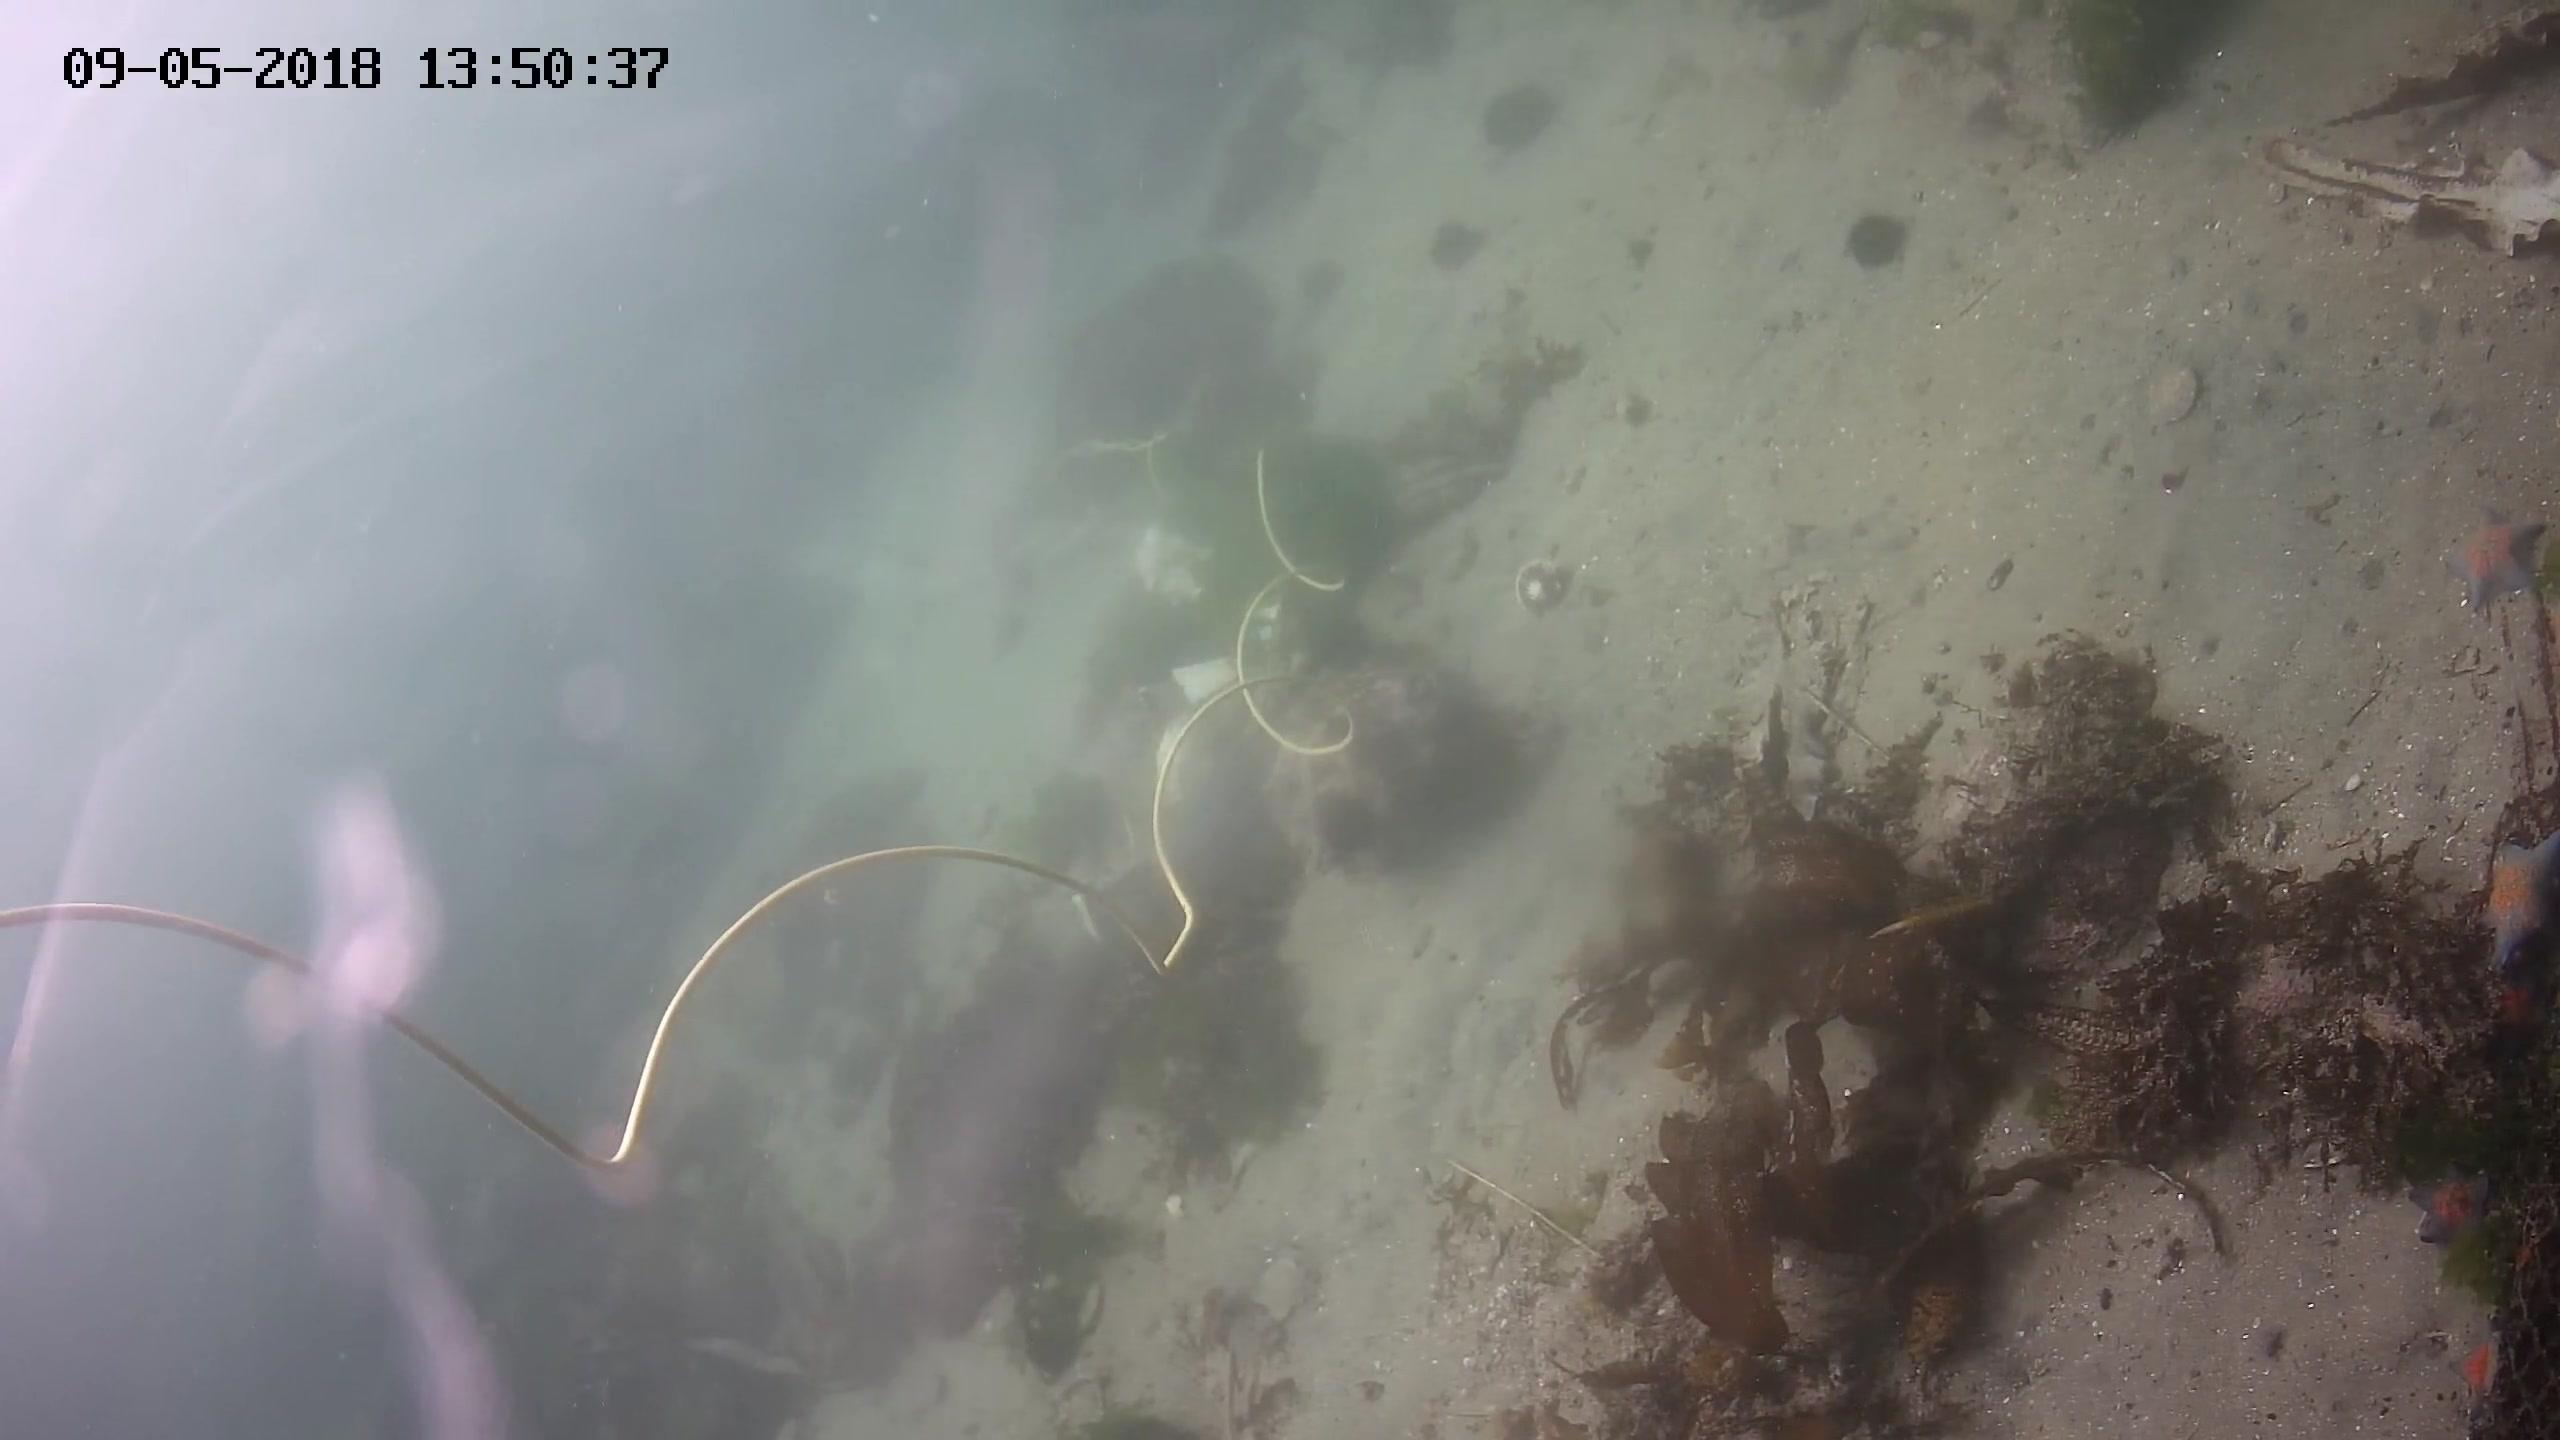scallop: (2138, 366, 2201, 425)
starfish: (2477, 832, 2560, 962), (2449, 508, 2546, 605), (2447, 1313, 2516, 1419), (2405, 1167, 2498, 1241), (2493, 969, 2549, 1044)
